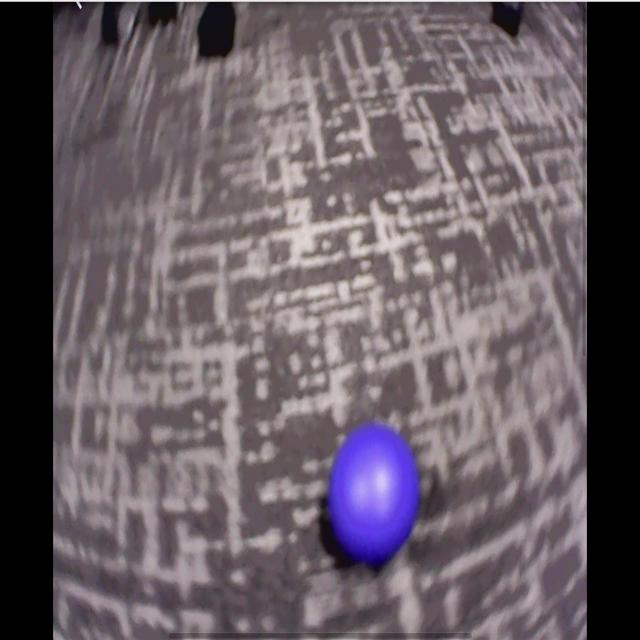ball: (330, 425, 418, 562)
